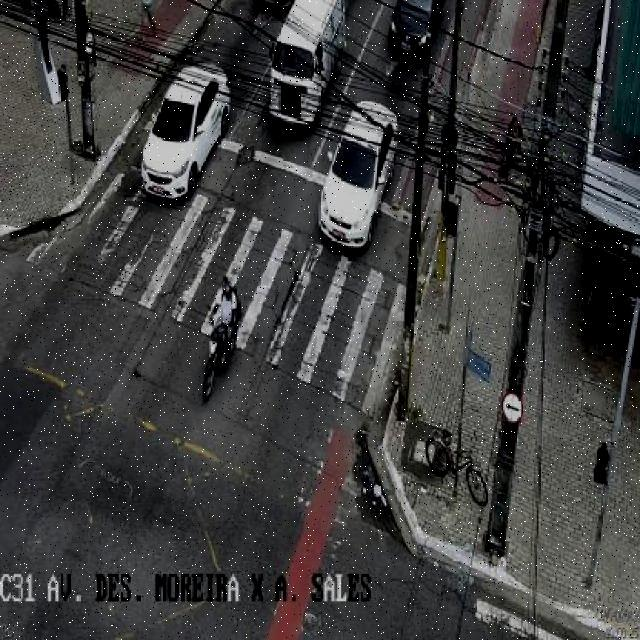Car: (317, 103, 404, 252), (141, 63, 233, 203)
Cycle: (426, 430, 490, 507), (198, 316, 243, 401)
Truck: (381, 0, 446, 66)
Van: (265, 0, 350, 124)
